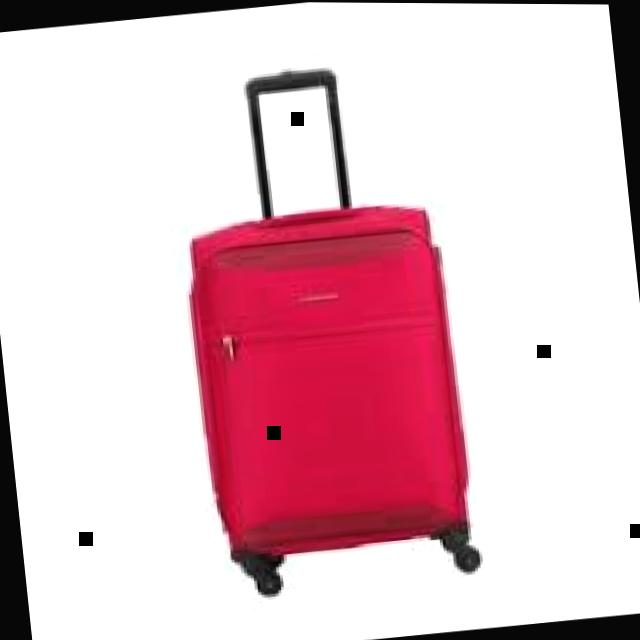luggage: (175, 191, 478, 565)
